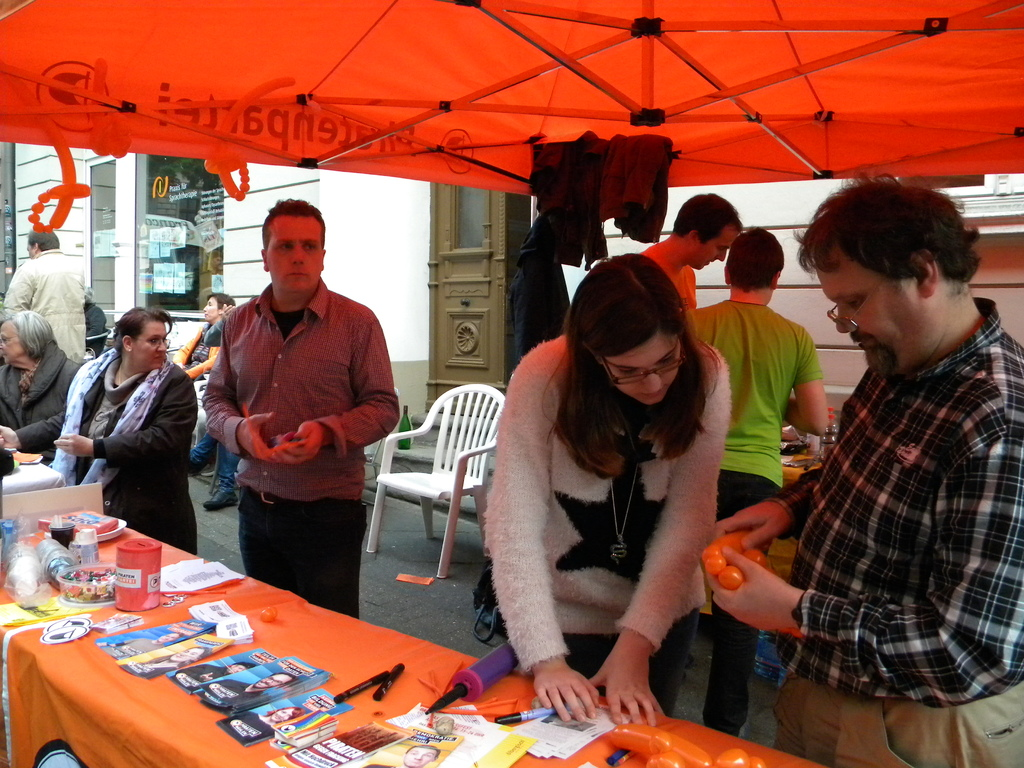Person: (653, 236, 829, 731), (187, 295, 257, 505), (643, 192, 723, 319), (177, 294, 221, 387)
